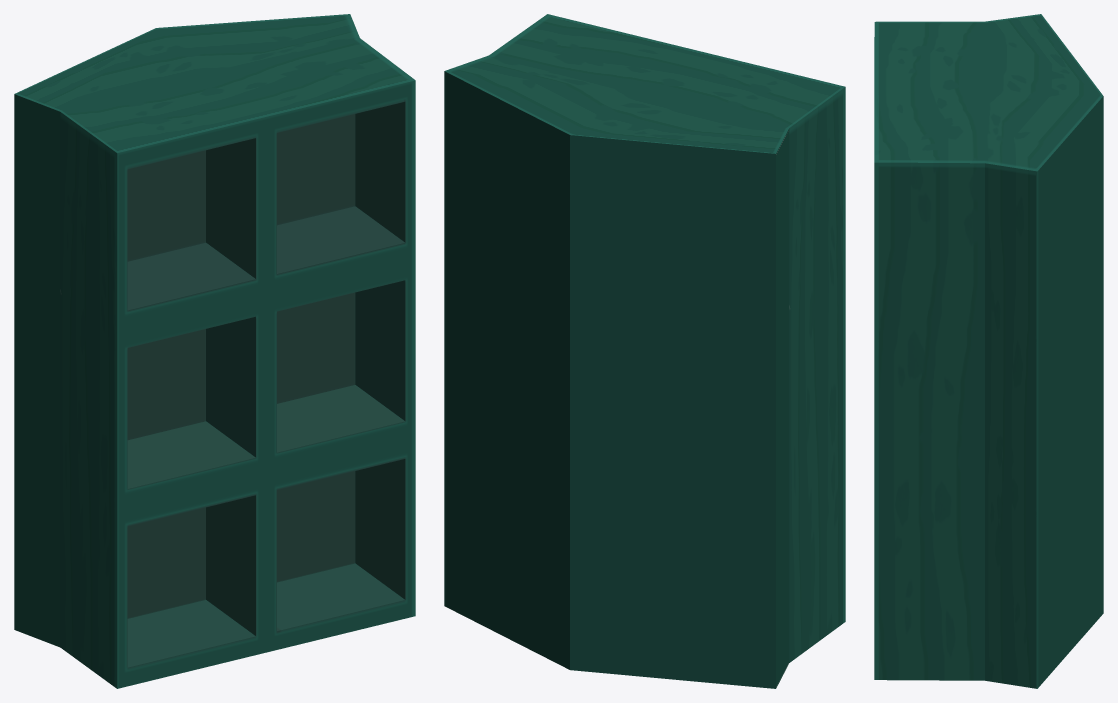
The model's file is Estanteria1.fbx.
The picture shows the model from 3 angles, left to right: view 1: azimuth 30°, elevation 25°; view 2: azimuth 150°, elevation 25°; view 3: azimuth 270°, elevation 25°; orthographic projection. The views are drawn at different scales.
Visible parts, largest first — view 1: estanteria01; view 2: estanteria01; view 3: estanteria01.
Part boxes in pixels (left/top/right/bottom): estanteria01: left=14, top=14, right=415, bottom=688; estanteria01: left=444, top=14, right=845, bottom=688; estanteria01: left=874, top=14, right=1103, bottom=688.
Size of the model in its own units: 1.31 by 2 by 0.8024.
